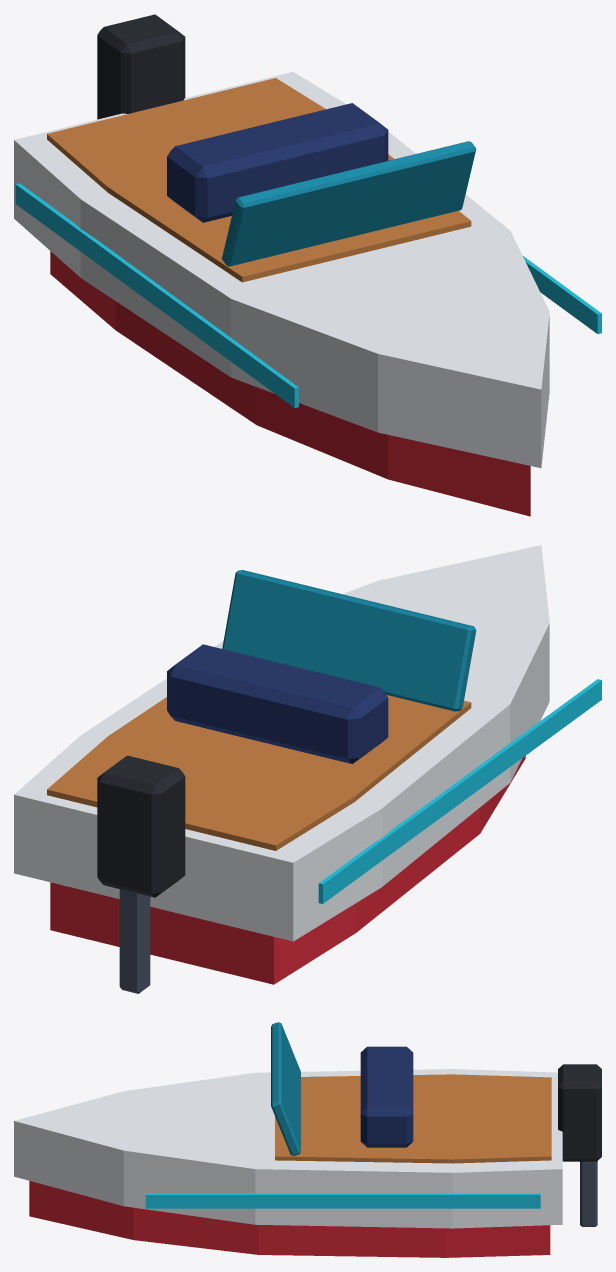
Rendered from Boat.fbx.
3 renders of one model, top to bottom at view 1: azimuth 30°, elevation 25°; view 2: azimuth 150°, elevation 25°; view 3: azimuth 270°, elevation 25°, orthographic. The views are drawn at different scales.
Visible parts, largest first — view 1: Boat; view 2: Boat; view 3: Boat.
Part boxes in pixels (x1=…): Boat: x1=14, y1=14, x2=601, y2=516; Boat: x1=14, y1=545, x2=601, y2=993; Boat: x1=14, y1=1022, x2=601, y2=1257.
Bounding box in the file's own units: 5.72 × 4.08 × 13.4.
1 material, 1 textured.
